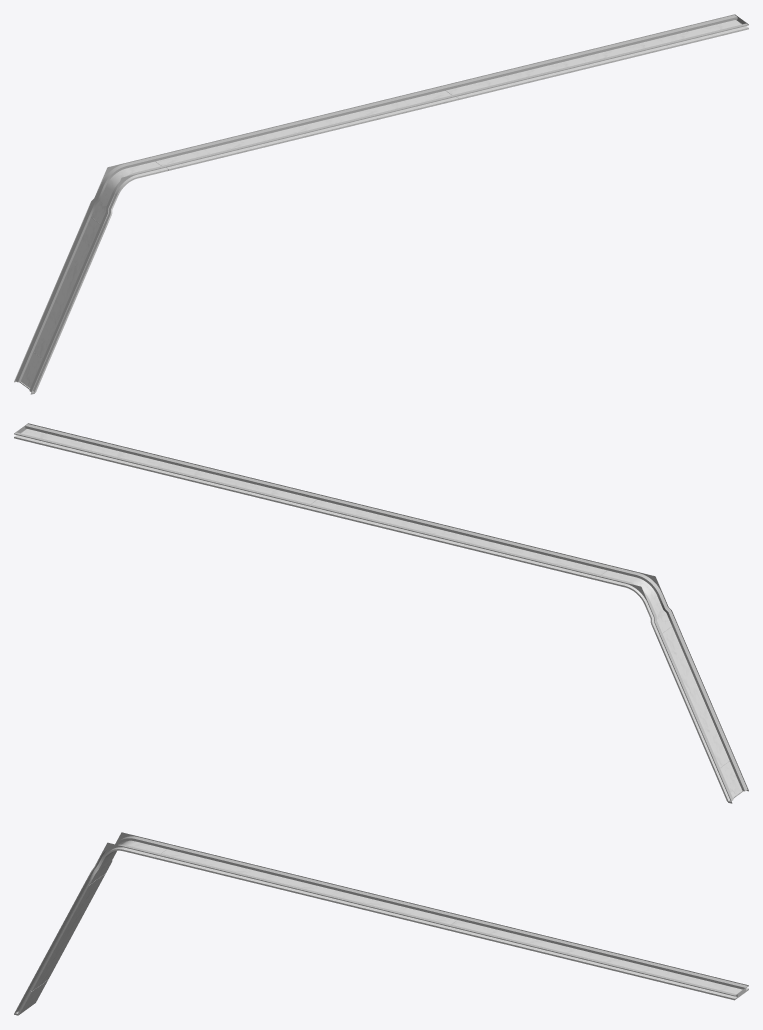
The picture shows the model from 3 angles, top to bottom: view 1: azimuth 30°, elevation 25°; view 2: azimuth 150°, elevation 25°; view 3: azimuth 330°, elevation 25°; orthographic projection.
Visible parts, largest first — view 1: M_C_006_c_47x2; view 2: M_C_006_c_47x2; view 3: M_C_006_c_47x2.
Part boxes in pixels (x1,y1,x2,y2): M_C_006_c_47x2: [14, 14, 748, 394]; M_C_006_c_47x2: [14, 423, 748, 803]; M_C_006_c_47x2: [14, 832, 748, 1015].
Bounding box in the file's own units: 47.09 × 12.11 × 1.9.
